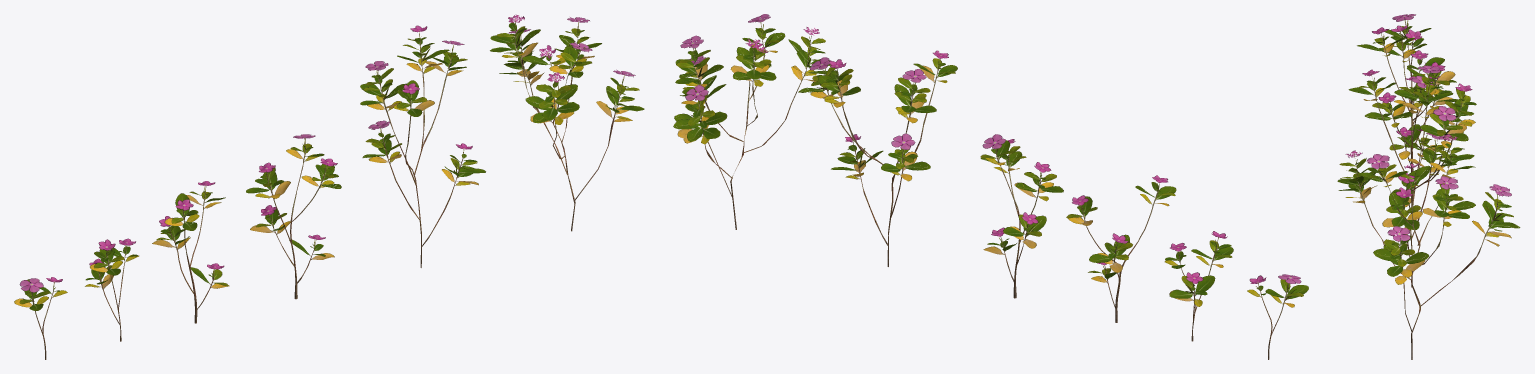
Rendered from periwinkle_plant.glb.
3 views of the same model, side by side, from view 1: azimuth 30°, elevation 25°; view 2: azimuth 150°, elevation 25°; view 3: azimuth 270°, elevation 25° (orthographic). The views are drawn at different scales.
Visible parts, largest first — view 1: periwinkle_plant_01, periwinkle_plant_02, periwinkle_plant_03, periwinkle_plant_04, periwinkle_plant_05, periwinkle_plant_06; view 2: periwinkle_plant_01, periwinkle_plant_02, periwinkle_plant_03, periwinkle_plant_04, periwinkle_plant_05, periwinkle_plant_06; view 3: periwinkle_plant_01, periwinkle_plant_02, periwinkle_plant_03, periwinkle_plant_04, periwinkle_plant_05, periwinkle_plant_06.
Boxes of the visible parts, x1,y1,x2,y2 form: periwinkle_plant_01: (490, 14, 644, 231); periwinkle_plant_02: (360, 25, 485, 267); periwinkle_plant_03: (246, 134, 341, 299); periwinkle_plant_04: (152, 181, 229, 323); periwinkle_plant_05: (85, 238, 138, 341); periwinkle_plant_06: (14, 277, 67, 359); periwinkle_plant_01: (673, 14, 830, 229); periwinkle_plant_02: (798, 50, 957, 266); periwinkle_plant_03: (980, 134, 1063, 298); periwinkle_plant_04: (1066, 175, 1176, 322); periwinkle_plant_05: (1164, 231, 1233, 341); periwinkle_plant_06: (1247, 274, 1308, 359); periwinkle_plant_01: (1337, 134, 1520, 359); periwinkle_plant_02: (1348, 65, 1476, 287); periwinkle_plant_03: (1365, 75, 1436, 208); periwinkle_plant_04: (1357, 27, 1457, 171); periwinkle_plant_05: (1379, 25, 1456, 123); periwinkle_plant_06: (1384, 14, 1431, 104).
Bounding box in the file's own units: 1.24 × 0.4107 × 0.3209.
Materials: 1 (1 with a texture image).
